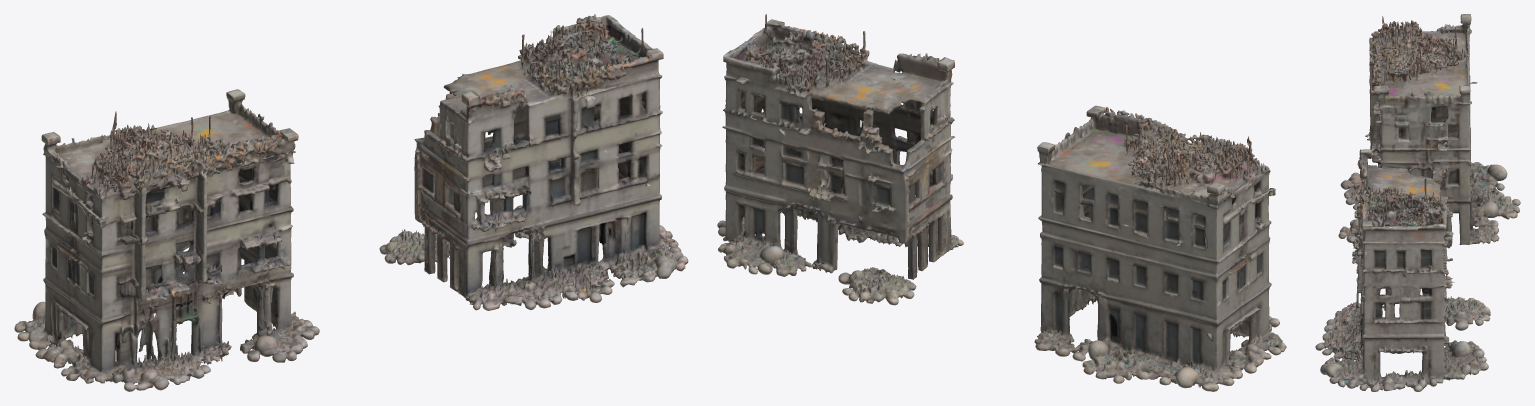
The model's file is destroyed_building_5.glb.
3 views of the same model, side by side, from view 1: azimuth 30°, elevation 25°; view 2: azimuth 150°, elevation 25°; view 3: azimuth 270°, elevation 25° (orthographic). The views are drawn at different scales.
Parts seen in each view (by area): view 1: Object_4, Object_5, Object_6, Object_7; view 2: Object_4, Object_5, Object_6, Object_7; view 3: Object_4, Object_5, Object_6, Object_7.
Part boxes in pixels (<box>): Object_4: <box>19,16,681,390</box>; Object_5: <box>14,14,688,391</box>; Object_6: <box>17,18,685,383</box>; Object_7: <box>25,17,672,386</box>; Object_4: <box>718,19,1286,389</box>; Object_5: <box>717,23,1281,391</box>; Object_6: <box>718,15,1284,385</box>; Object_7: <box>720,14,1282,387</box>; Object_4: <box>1315,20,1519,390</box>; Object_5: <box>1321,14,1517,391</box>; Object_6: <box>1317,16,1519,391</box>; Object_7: <box>1318,17,1520,389</box>.
Bounding box in the file's own units: 2 × 0.726 × 0.7592.
1 material, 1 textured.
